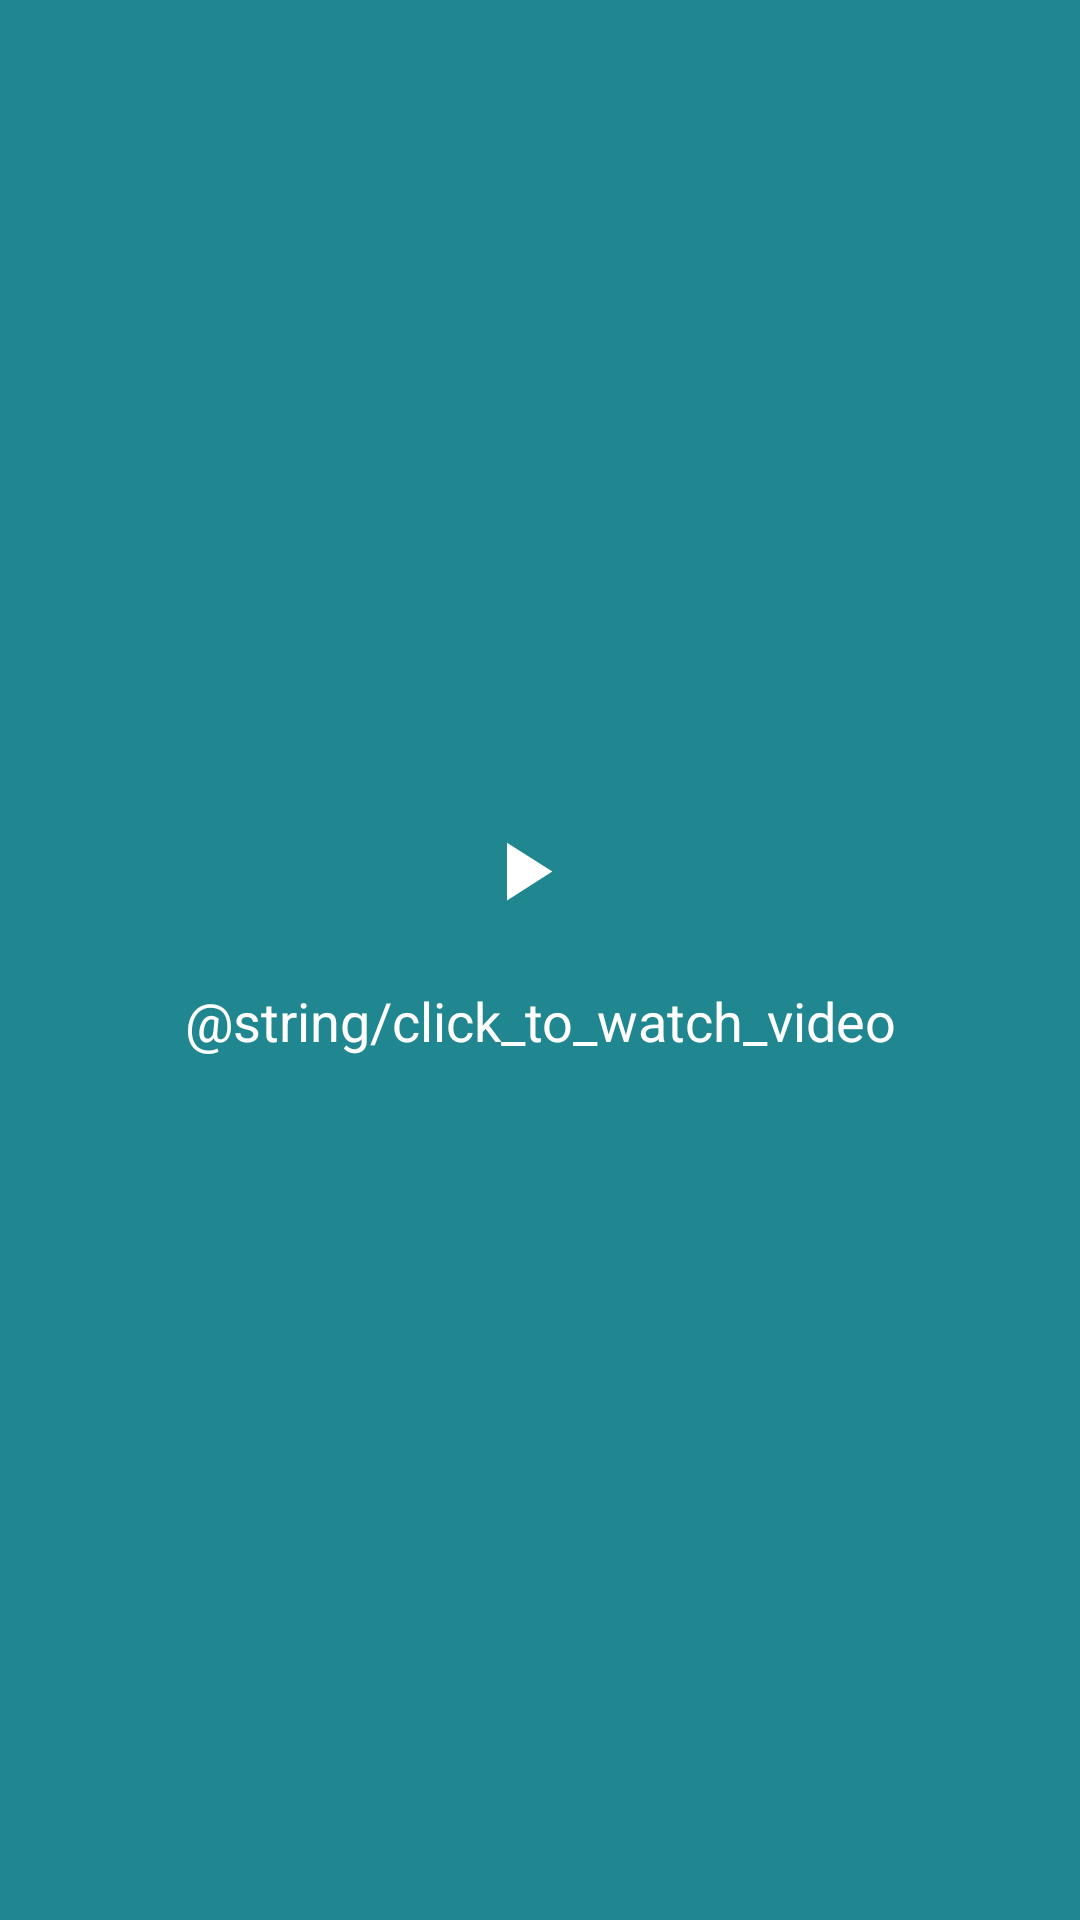

Screen size 1080w x 1920h. Icon name, then its center in pixels as point (x, y):
play: point (529, 872)
